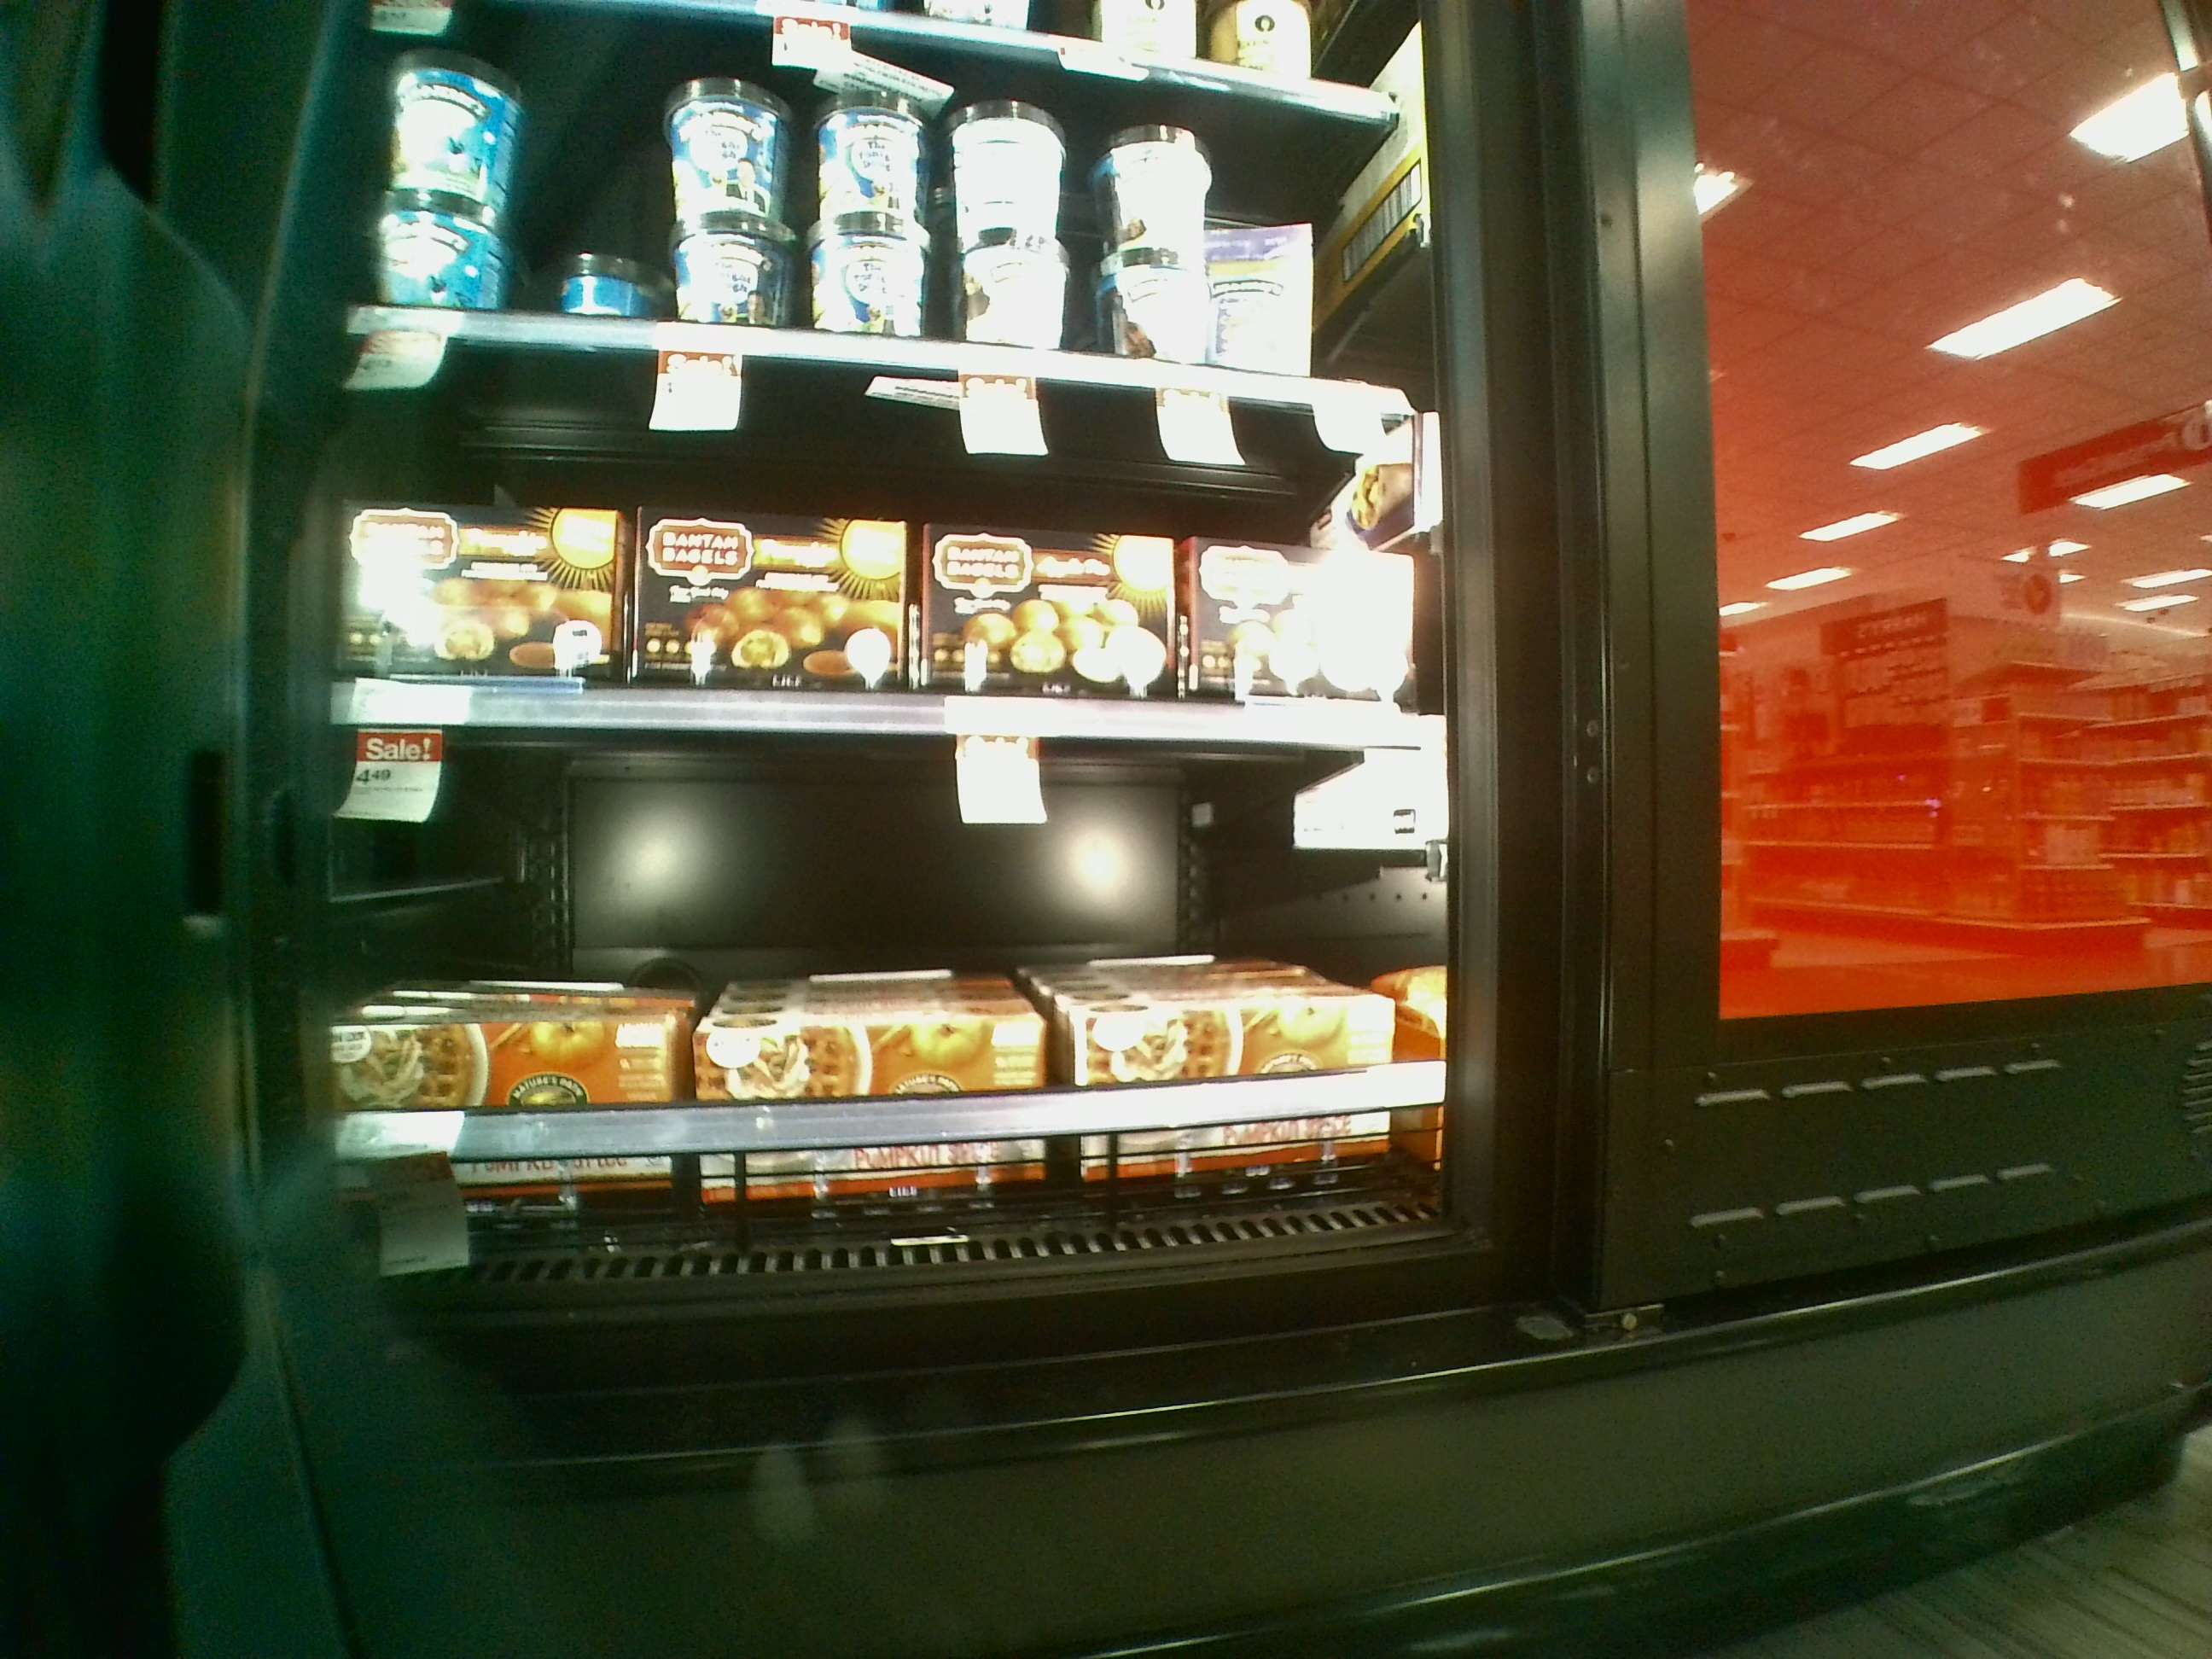shelf: (317, 688, 1470, 1286), (333, 342, 1451, 758)
